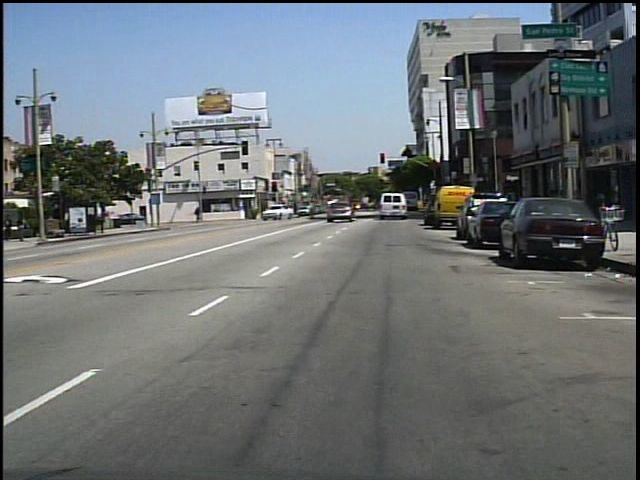person: (17, 212, 35, 246), (307, 196, 324, 225), (6, 213, 20, 243), (197, 205, 205, 225)
